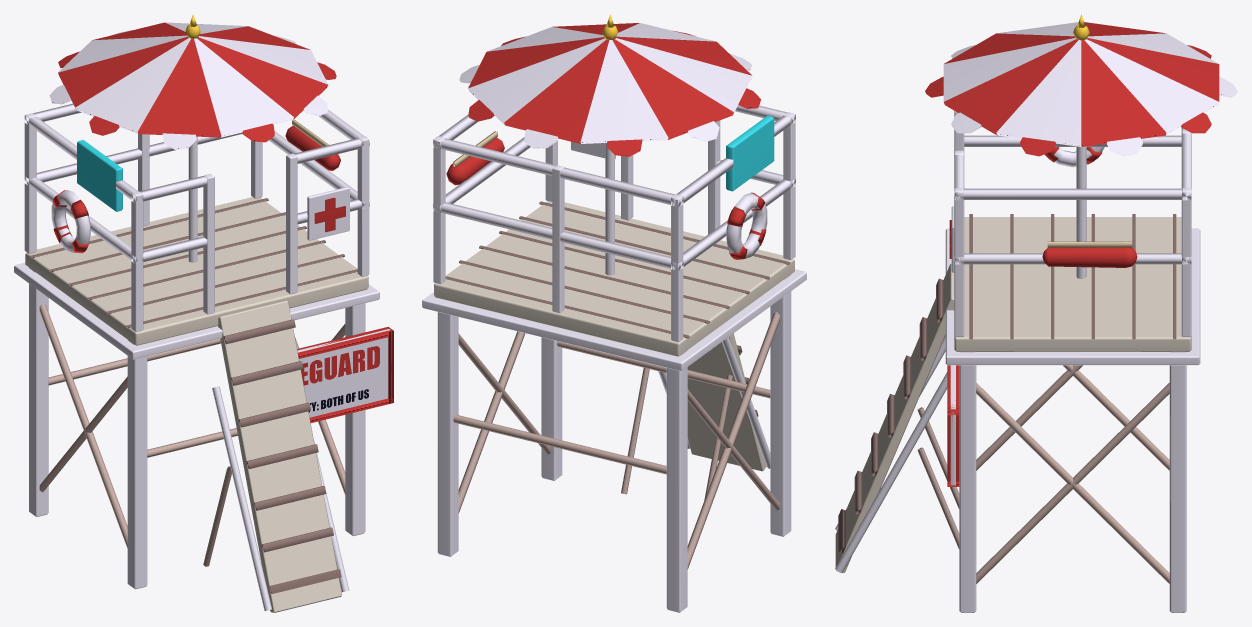
File: lifeguard_tower.glb
3 views of the same model, side by side, from view 1: azimuth 30°, elevation 25°; view 2: azimuth 150°, elevation 25°; view 3: azimuth 270°, elevation 25° (orthographic). The views are drawn at different scales.
Parts seen in each view (by area): view 1: Tower; view 2: Tower; view 3: Tower.
Boxes of the visible parts, x1,y1,x2,y2 form: Tower: [14, 14, 393, 612]; Tower: [422, 14, 806, 612]; Tower: [835, 14, 1237, 612].
Bounding box in the file's own units: 1.95 × 3.53 × 2.37.
